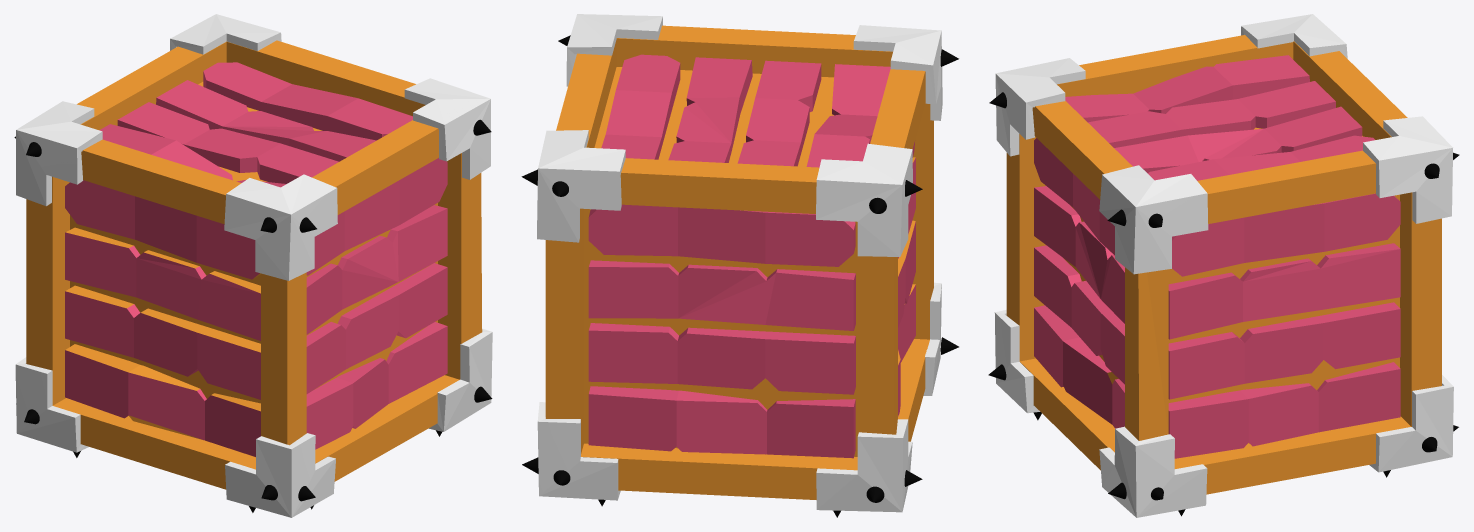
File: ToyObject_105.fbx
3 views of the same model, side by side, from view 1: azimuth 30°, elevation 25°; view 2: azimuth 150°, elevation 25°; view 3: azimuth 270°, elevation 25° (orthographic). The views are drawn at different scales.
Parts seen in each view (by area): view 1: Object.054; view 2: Object.054; view 3: Object.054.
Boxes of the visible parts, box(x1,y1,x2,y2) form: Object.054: box(14, 14, 492, 517); Object.054: box(521, 14, 958, 517); Object.054: box(988, 14, 1459, 517).
Size of the model in its own units: 0.1686 by 0.1314 by 0.1694.
